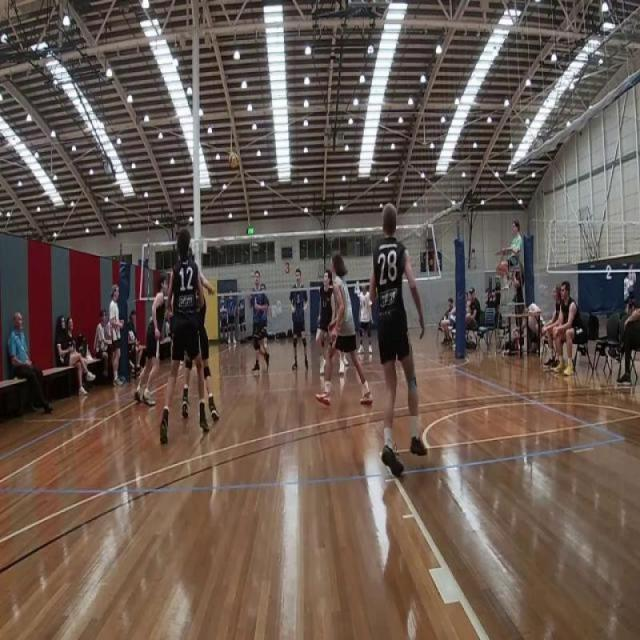volleyball: (228, 150, 241, 170)
